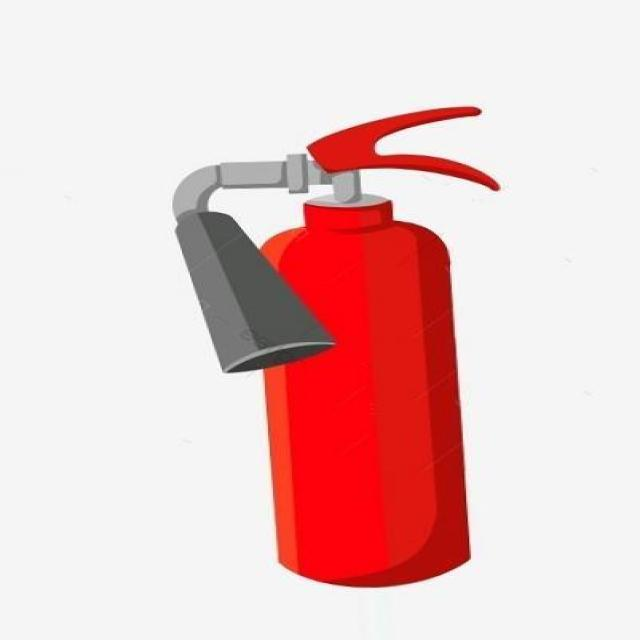fire_extinguisher: (162, 99, 504, 591)
